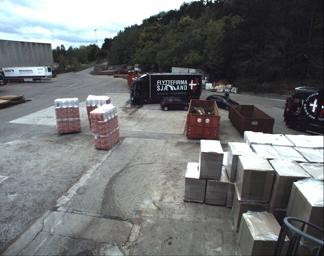rockwool_batts: (91, 103, 119, 149), (54, 96, 80, 132), (86, 92, 110, 120)
